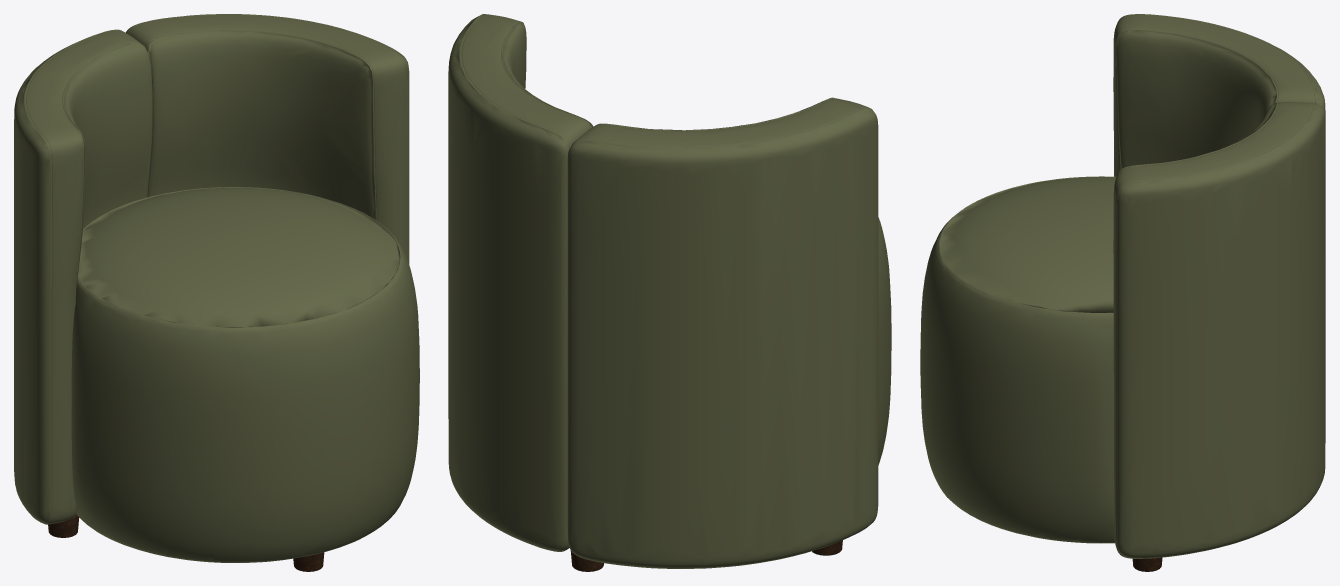
Rendered from bella-3d-barrel-lounge-chair.glb.
3 renders of one model, left to right at view 1: azimuth 30°, elevation 25°; view 2: azimuth 150°, elevation 25°; view 3: azimuth 270°, elevation 25°, orthographic. The views are drawn at different scales.
Parts seen in each view (by area): view 1: olive-lounge-chair-5, olive-lounge-chair-7; view 2: olive-lounge-chair-5, olive-lounge-chair-7; view 3: olive-lounge-chair-5.
Boxes of the visible parts, left/top/right/bottom form: olive-lounge-chair-5: left=14, top=14, right=419, bottom=562; olive-lounge-chair-7: left=48, top=514, right=324, bottom=571; olive-lounge-chair-5: left=448, top=14, right=891, bottom=568; olive-lounge-chair-7: left=570, top=540, right=842, bottom=571; olive-lounge-chair-5: left=920, top=14, right=1325, bottom=558.
Bounding box in the file's own units: 0.7376 × 0.7777 × 0.7158.
3 materials, 1 textured.
